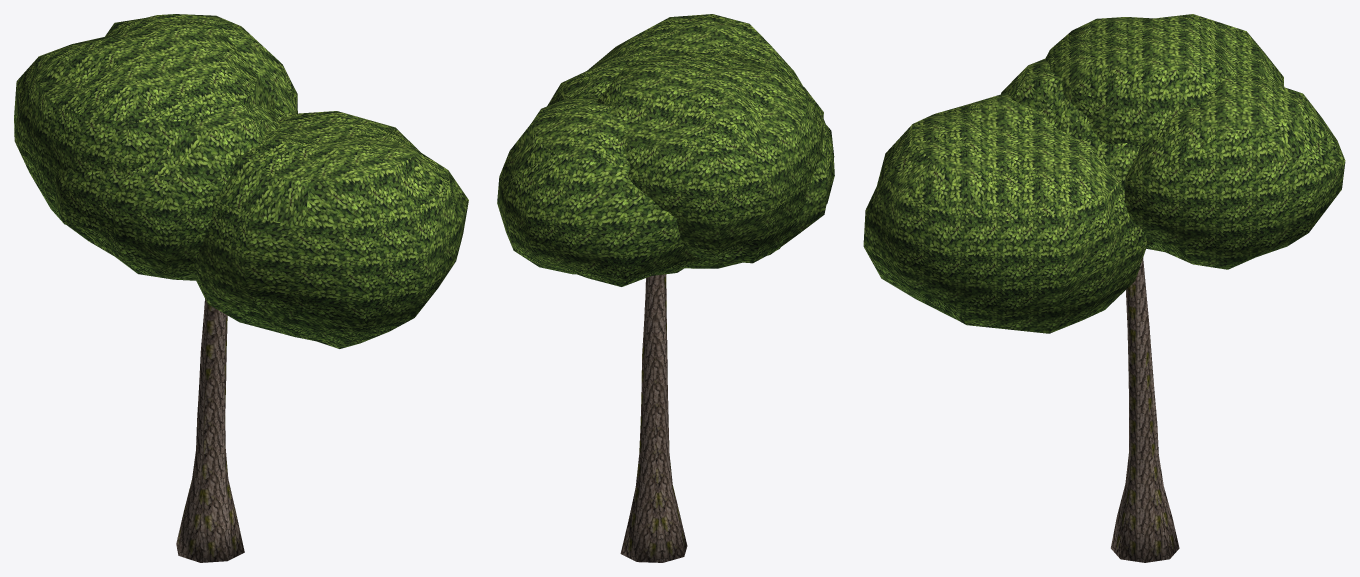
File: tree_0.glb
The picture shows the model from 3 angles, left to right: view 1: azimuth 30°, elevation 25°; view 2: azimuth 150°, elevation 25°; view 3: azimuth 270°, elevation 25°; orthographic projection. The views are drawn at different scales.
Parts seen in each view (by area): view 1: Tree; view 2: Tree; view 3: Tree.
Boxes of the visible parts, x1,y1,x2,y2 form: Tree: [14, 14, 468, 562]; Tree: [497, 14, 834, 562]; Tree: [863, 14, 1345, 562].
Bounding box in the file's own units: 6.4 × 9.76 × 8.59.
Materials: 2 (2 with a texture image).
